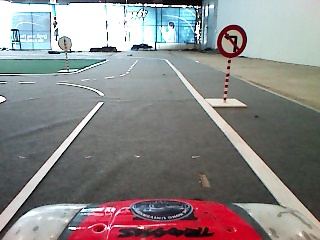ban_left: (218, 25, 247, 57)
